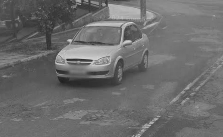car: (52, 18, 153, 89)
